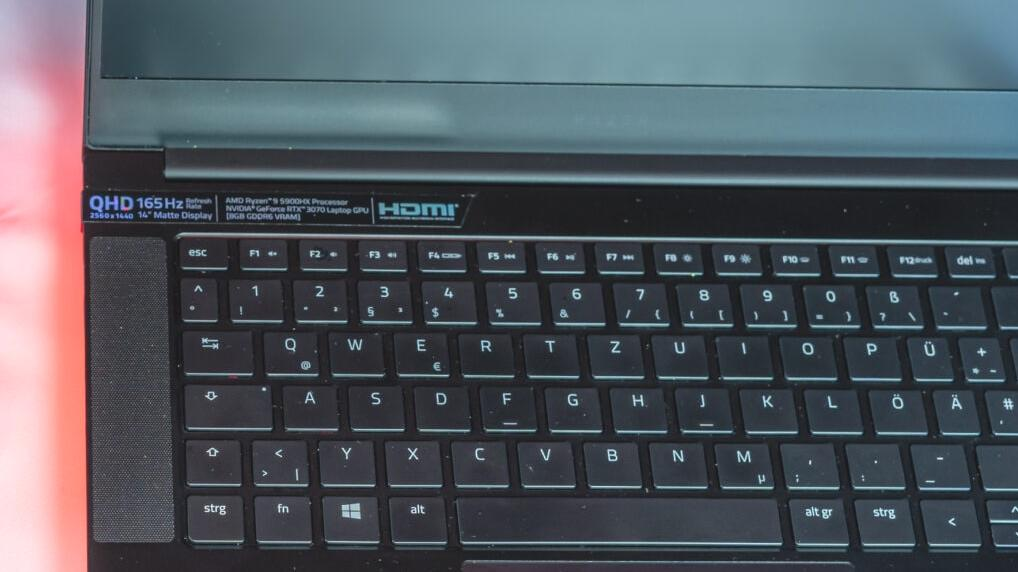0: (801, 280, 859, 324)
1: (226, 275, 283, 319)
2: (290, 275, 347, 319)
3: (354, 276, 412, 320)
4: (419, 276, 476, 321)
5: (483, 277, 541, 321)
6: (546, 278, 604, 321)
7: (611, 279, 666, 323)
8: (674, 280, 731, 324)
9: (737, 279, 794, 324)
a: (280, 381, 338, 427)
accent: (926, 281, 984, 324)
ae: (931, 385, 979, 432)
alt-left: (386, 492, 448, 542)
altgr-right: (786, 494, 848, 543)
b: (580, 437, 641, 484)
c: (448, 436, 509, 484)
caret: (177, 274, 217, 319)
comma: (776, 438, 838, 485)
d: (411, 382, 471, 428)
e: (391, 328, 449, 373)
f: (477, 382, 536, 428)
g: (541, 383, 601, 428)
h: (607, 383, 666, 429)
hash: (987, 385, 1018, 432)
i: (714, 331, 772, 374)
j: (672, 383, 731, 428)
k: (737, 384, 796, 430)
keyboard: (79, 182, 1018, 565)
l: (802, 385, 861, 430)
less: (248, 435, 308, 483)
m: (711, 438, 773, 486)
minus: (909, 439, 970, 487)
n: (646, 437, 706, 485)
o: (777, 332, 837, 376)
oe: (866, 386, 927, 432)
p: (841, 332, 901, 377)
plus: (956, 332, 1003, 378)
point: (842, 439, 903, 485)
q: (260, 327, 318, 373)
r: (456, 329, 515, 373)
s: (345, 381, 404, 428)
shift-left: (181, 435, 241, 483)
shift-lock: (180, 380, 272, 427)
space: (451, 492, 782, 543)
ss: (863, 280, 921, 325)
strg-left: (183, 491, 245, 541)
strg-right: (852, 494, 915, 544)
t: (521, 329, 577, 374)
tab: (179, 325, 252, 371)
u: (649, 330, 707, 376)
ue: (905, 332, 952, 378)
v: (514, 436, 575, 484)
w: (325, 327, 383, 373)
x: (383, 436, 442, 483)
y: (316, 436, 375, 483)
z: (585, 330, 643, 375)
